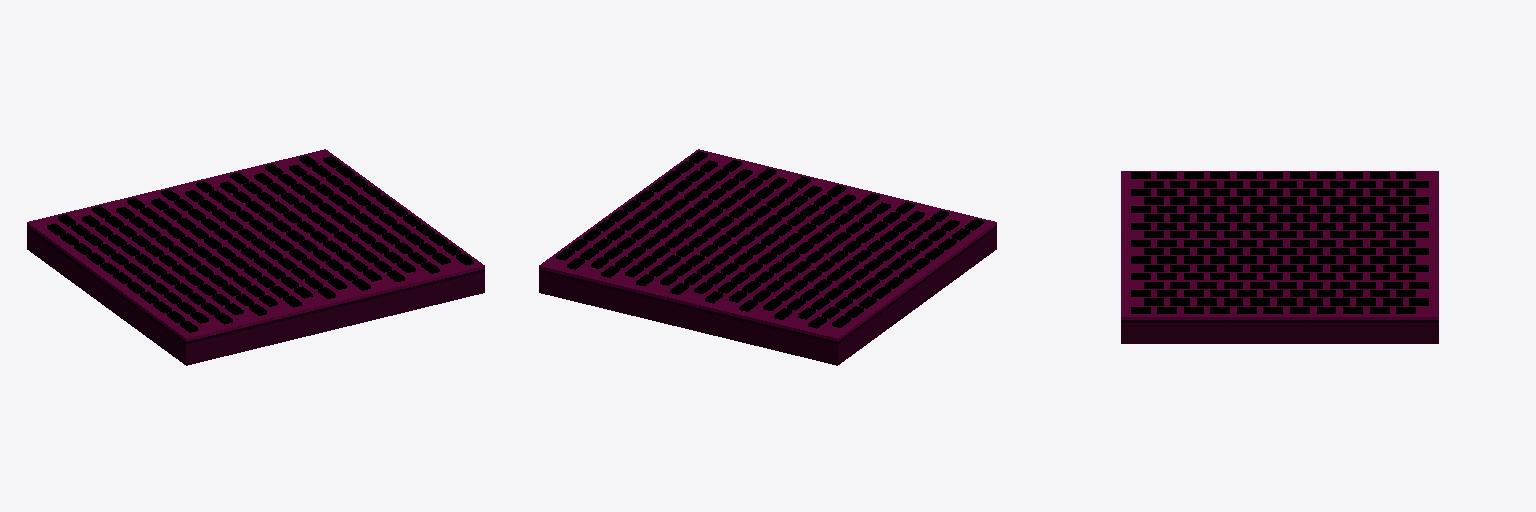
3 views of the same model, side by side, from view 1: azimuth 30°, elevation 25°; view 2: azimuth 150°, elevation 25°; view 3: azimuth 270°, elevation 25° (orthographic).
Visible parts, largest first — view 1: MiddleCastle; view 2: MiddleCastle; view 3: MiddleCastle.
Boxes of the visible parts, x1,y1,x2,y2 form: MiddleCastle: [27, 149, 484, 365]; MiddleCastle: [539, 149, 996, 365]; MiddleCastle: [1121, 171, 1438, 343].
Size of the model in its own units: 104 by 10 by 96.
Materials: 1 (1 with a texture image).